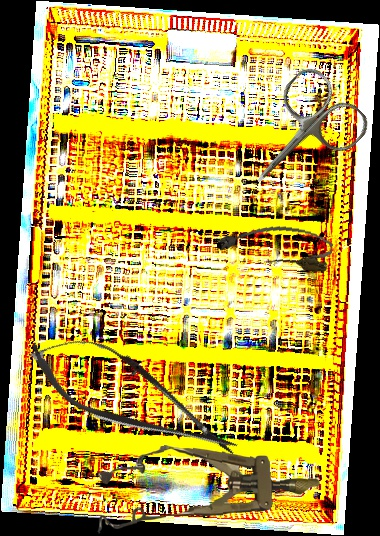Cannula: (215, 216, 335, 274)
Iris Scissors: (224, 61, 375, 213)
Micro Scissor: (16, 314, 252, 481)
Speculum: (94, 440, 322, 534)
